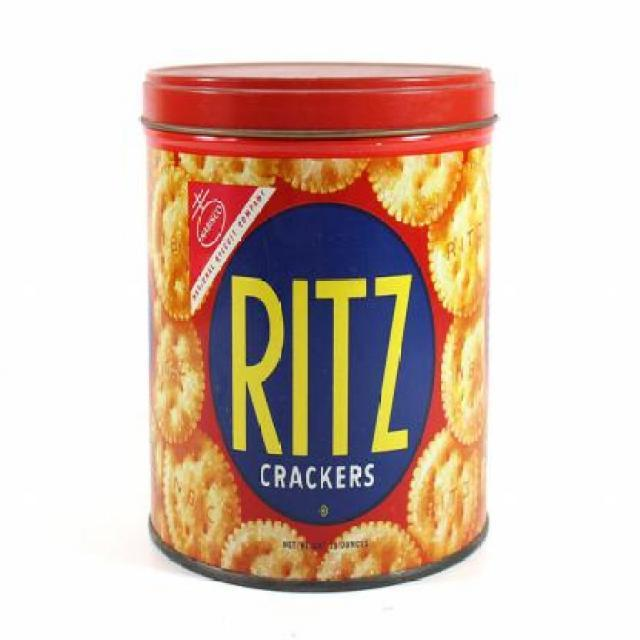Ritz cracker: (140, 44, 502, 596)
